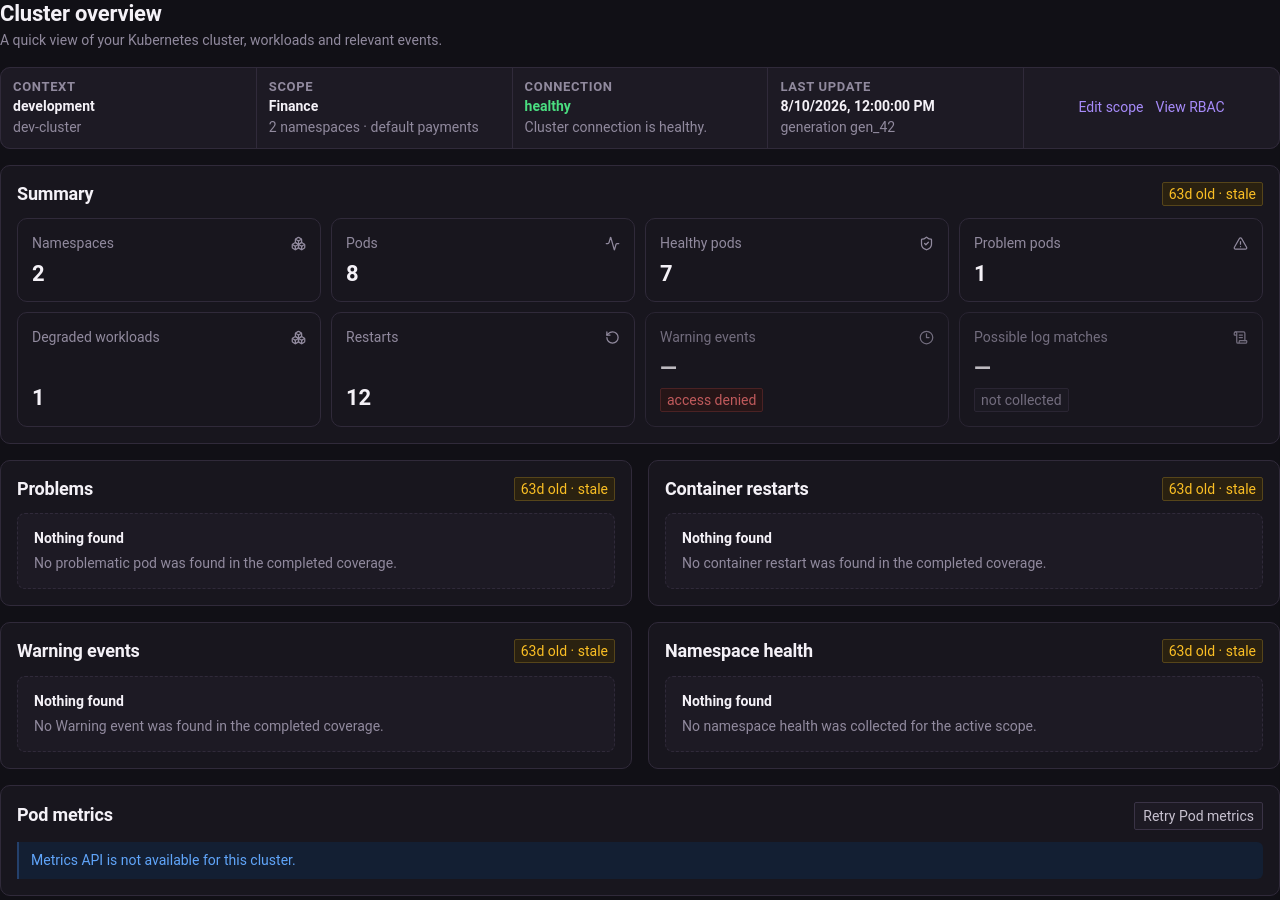
progressive dashboard › isolates a failed metrics request and retries only that panel
Expected: the heading "Cluster overview" is shown, x1=0 y1=1 x2=162 y2=26
Expected: the heading "Problems" is shown, x1=17 y1=477 x2=93 y2=501
Step 1. Click the button "Retry Pod metrics" → x=1199, y=816, box x1=1134 y1=802 x2=1263 y2=830
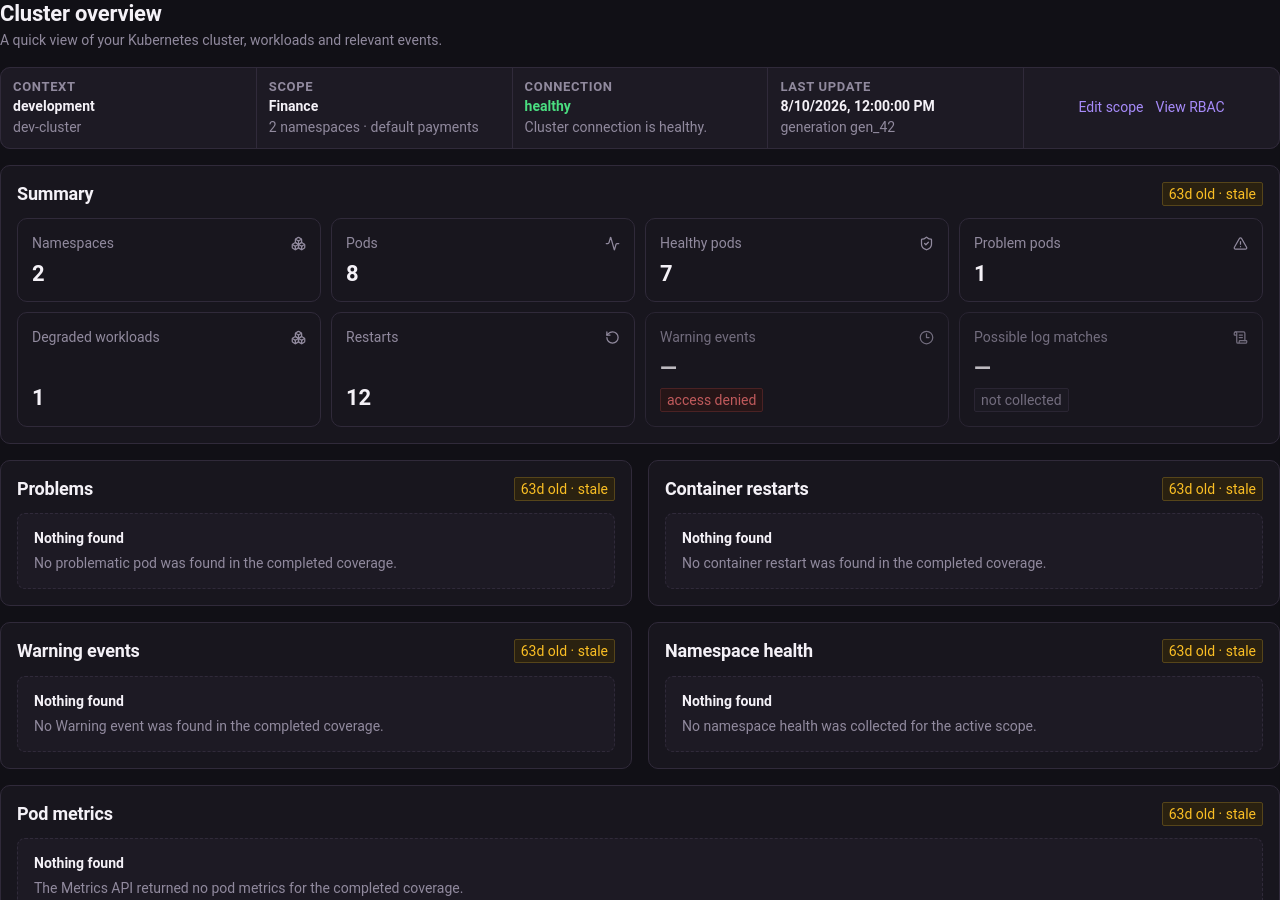
Result: the button "Retry Pod metrics" is gone
